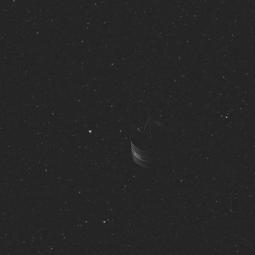double_start: (128, 113, 174, 170)
